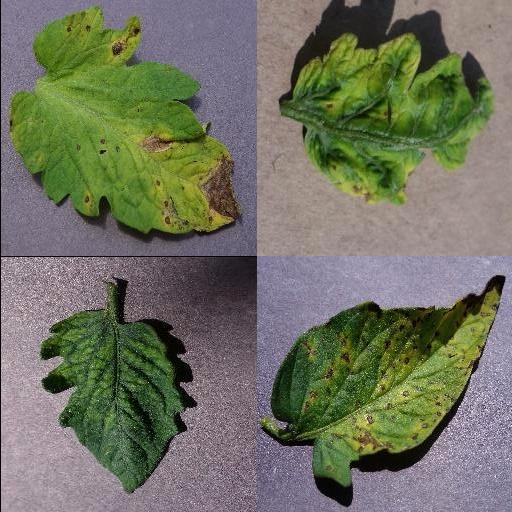Mosaic Virus: (37, 307, 187, 497)
Septoria: (6, 7, 242, 235), (272, 274, 504, 488)
Yellow Leaf Curl Virus: (293, 33, 491, 205)
